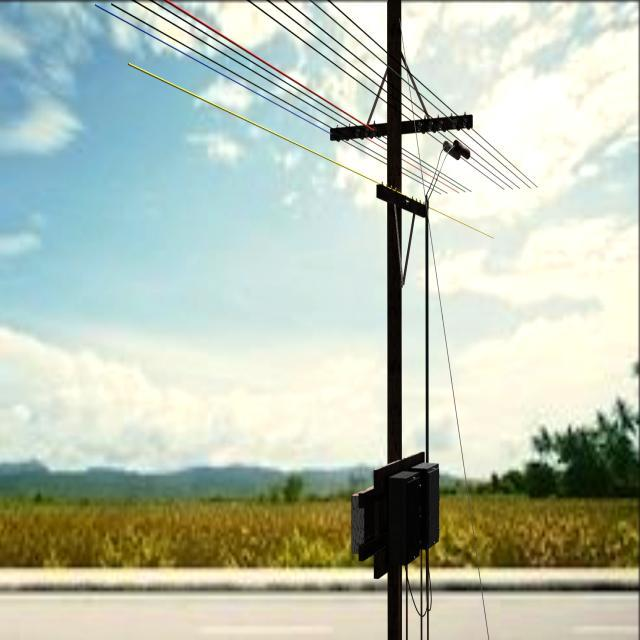crossarm: (374, 453, 427, 581), (328, 114, 474, 143), (377, 184, 426, 218)
pole: (387, 200, 402, 640), (387, 0, 402, 194)
transformer: (399, 16, 490, 640), (390, 468, 420, 562), (413, 461, 439, 553), (351, 490, 370, 557)
wire: (93, 2, 442, 195), (109, 1, 449, 196), (127, 60, 495, 240), (129, 0, 460, 195), (148, 0, 467, 194), (162, 0, 473, 194), (246, 0, 505, 191), (265, 0, 512, 190), (283, 0, 521, 190), (308, 0, 531, 187), (325, 0, 538, 188)
